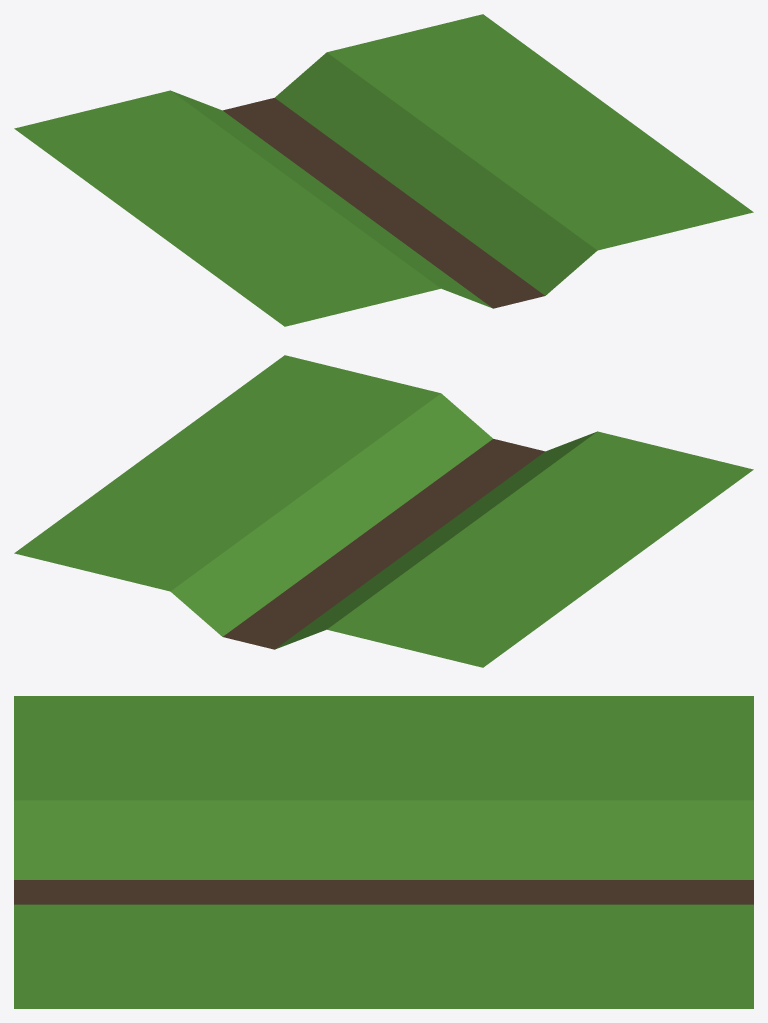
Rendered from tiles-nb_tile-river-basin-nb.fbx.
3 renders of one model, top to bottom at view 1: azimuth 30°, elevation 25°; view 2: azimuth 150°, elevation 25°; view 3: azimuth 270°, elevation 25°, orthographic. The views are drawn at different scales.
Parts seen in each view (by area): view 1: tiles_nb_tile_river_basin_nb; view 2: tiles_nb_tile_river_basin_nb; view 3: tiles_nb_tile_river_basin_nb.
Boxes of the visible parts, left/top/right/bottom form: tiles_nb_tile_river_basin_nb: left=14, top=14, right=753, bottom=326; tiles_nb_tile_river_basin_nb: left=14, top=355, right=753, bottom=667; tiles_nb_tile_river_basin_nb: left=14, top=696, right=753, bottom=1008.
Size of the model in its own units: 200 by 13.33 by 200.
